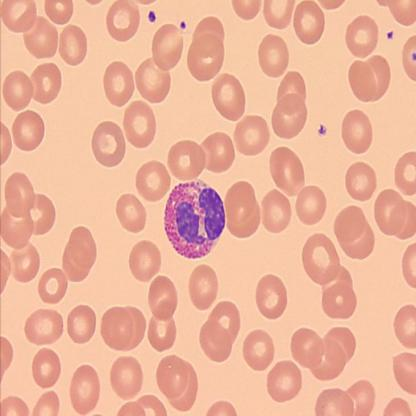Eosinophil: (164, 180, 226, 258)
